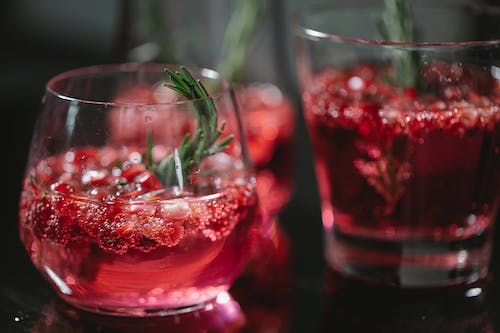alcohol: (16, 61, 264, 319), (287, 0, 500, 288)
